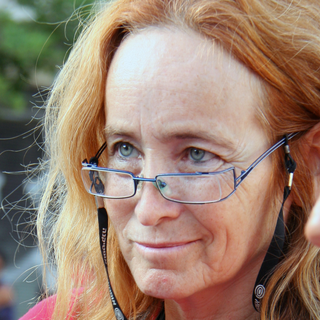eye: (173, 140, 224, 167), (104, 136, 146, 161)
